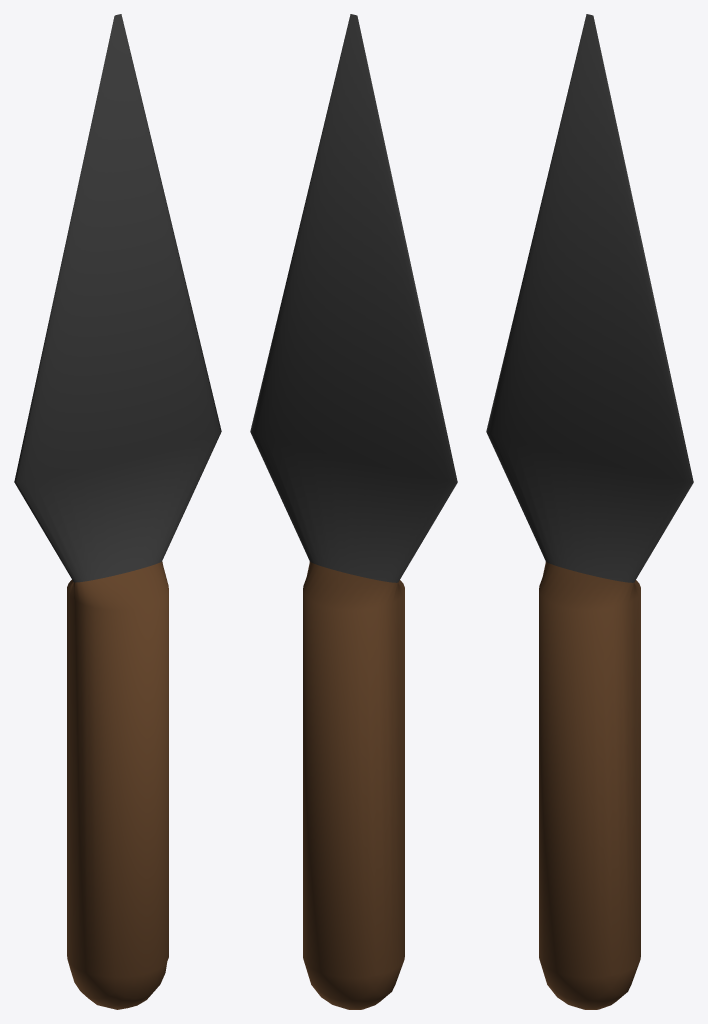
File: Iron_spatula.fbx
The picture shows the model from 3 angles, left to right: view 1: azimuth 30°, elevation 25°; view 2: azimuth 150°, elevation 25°; view 3: azimuth 330°, elevation 25°; orthographic projection.
Parts seen in each view (by area): view 1: 円柱; view 2: 円柱; view 3: 円柱.
Boxes of the visible parts, x1,y1,x2,y2 form: 円柱: (14,14,221,1009); 円柱: (250,14,457,1009); 円柱: (486,14,693,1009).
Bounding box in the file's own units: 114 × 522 × 48.78.
